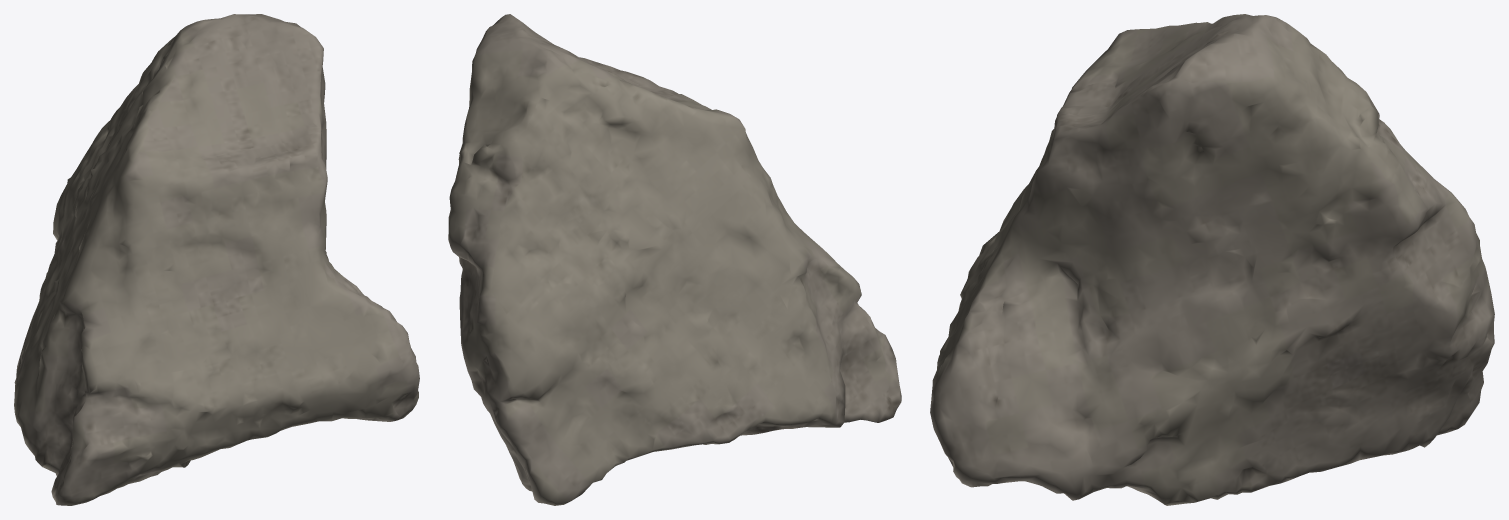
3 views of the same model, side by side, from view 1: azimuth 30°, elevation 25°; view 2: azimuth 150°, elevation 25°; view 3: azimuth 270°, elevation 25° (orthographic). The views are drawn at different scales.
Visible parts, largest first — view 1: moon_rock_05_LOD0; view 2: moon_rock_05_LOD0; view 3: moon_rock_05_LOD0.
Boxes of the visible parts, x1,y1,x2,y2 form: moon_rock_05_LOD0: (14, 14, 419, 505); moon_rock_05_LOD0: (448, 14, 901, 505); moon_rock_05_LOD0: (930, 14, 1494, 505).
Bounding box in the file's own units: 0.0717 × 0.0734 × 0.0811.
1 material, 1 textured.
